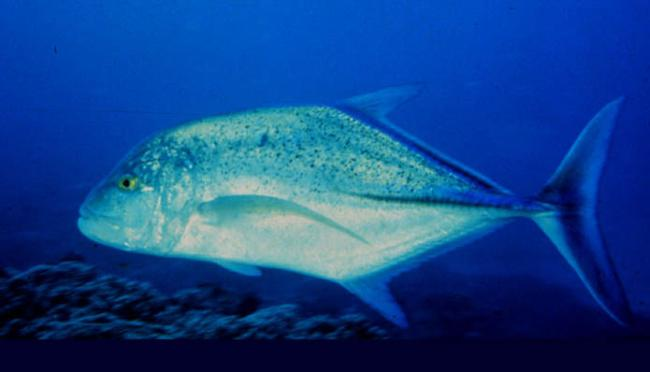fish: (77, 82, 635, 329)
